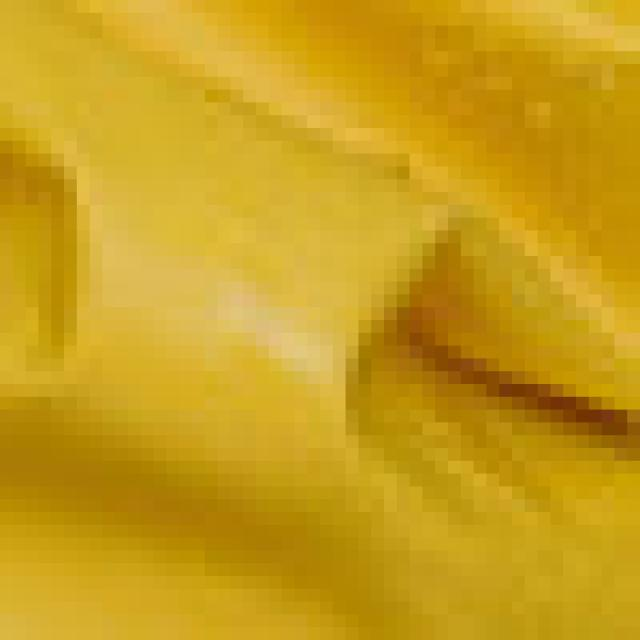no_fire: (16, 18, 634, 616)
